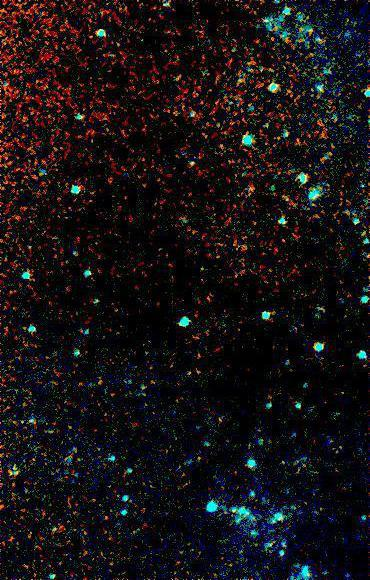star: (194, 284, 224, 314)
